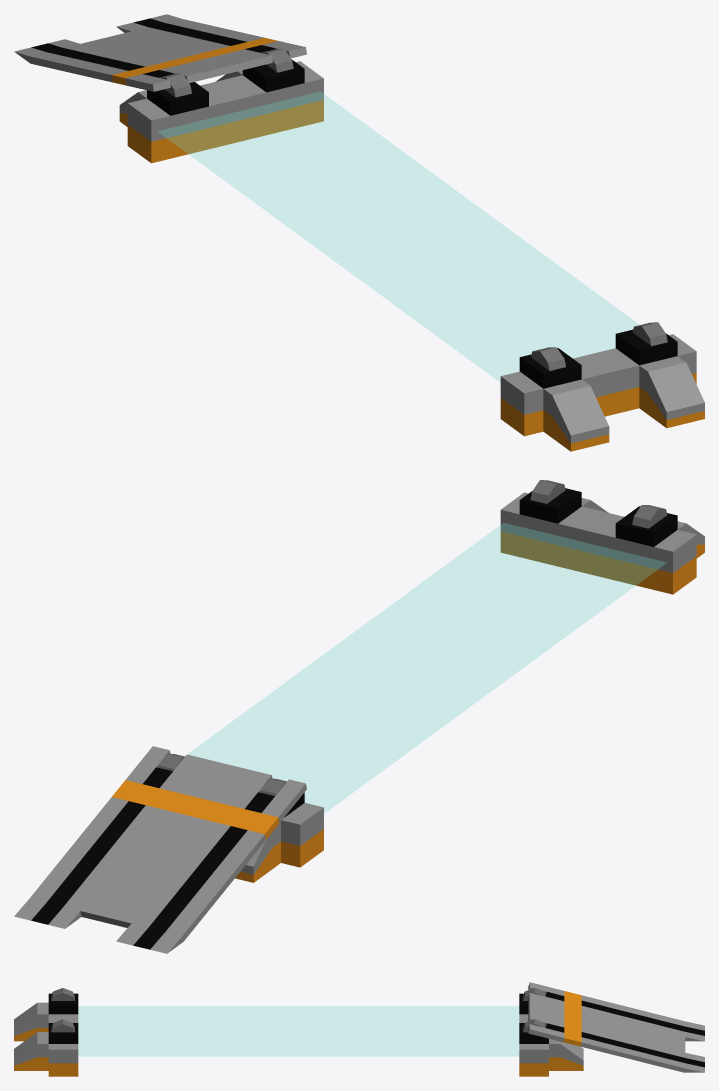
File: Environment2_Ground_Bridge.fbx
3 views of the same model, one above another, from view 1: azimuth 30°, elevation 25°; view 2: azimuth 150°, elevation 25°; view 3: azimuth 270°, elevation 25° (orthographic). The views are drawn at different scales.
Visible parts, largest first — view 1: Bridge, BridgeEnd.001, BridgeEnd, Bridge Ramp; view 2: Bridge, Bridge Ramp, BridgeEnd.001, BridgeEnd; view 3: Bridge, Bridge Ramp, BridgeEnd.001, BridgeEnd.
Boxes of the visible parts, x1,y1,x2,y2 form: Bridge: [158, 91, 638, 381]; BridgeEnd.001: [500, 322, 704, 451]; BridgeEnd: [119, 49, 323, 163]; Bridge Ramp: [14, 14, 306, 91]; Bridge: [188, 523, 666, 813]; Bridge Ramp: [14, 746, 306, 953]; BridgeEnd.001: [500, 480, 704, 594]; BridgeEnd: [158, 753, 323, 882]; Bridge: [78, 1006, 518, 1056]; Bridge Ramp: [528, 982, 704, 1072]; BridgeEnd.001: [14, 988, 78, 1076]; BridgeEnd: [519, 988, 583, 1076].
Bounding box in the file's own units: 842 × 329 × 4629.
